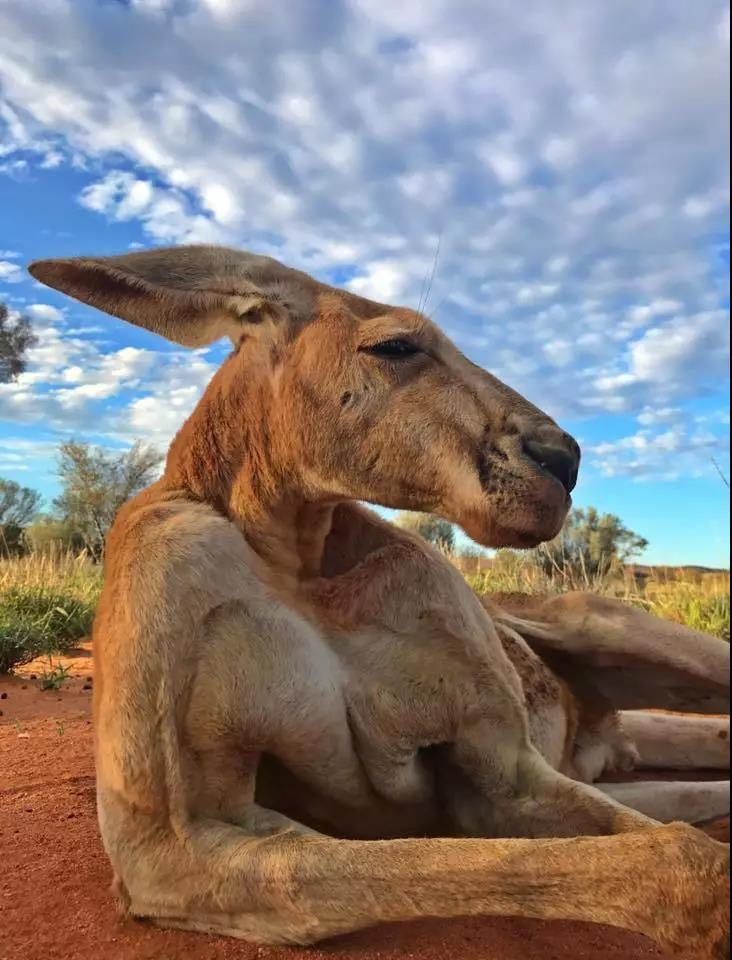kangaroo: (15, 235, 730, 948)
